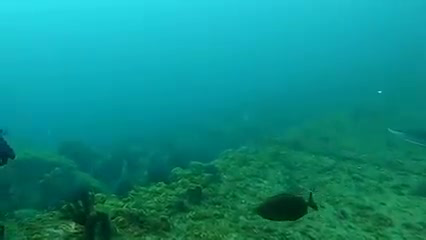smallfish: (254, 192, 319, 225)
